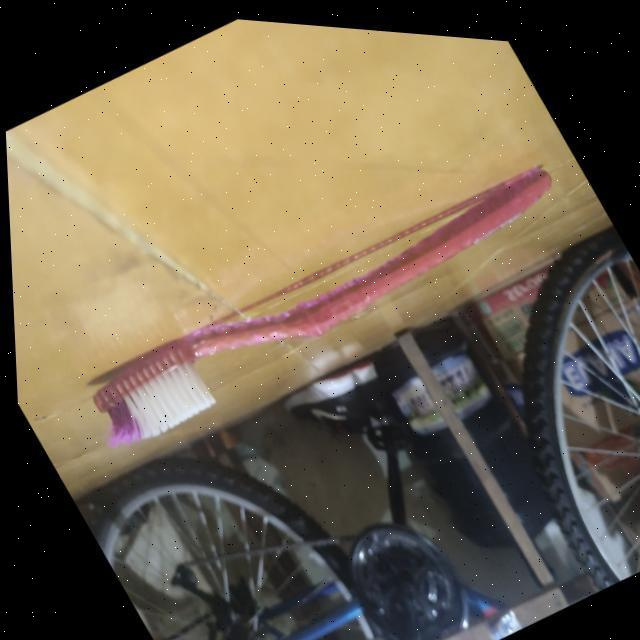toothbrush: (42, 86, 606, 502)
